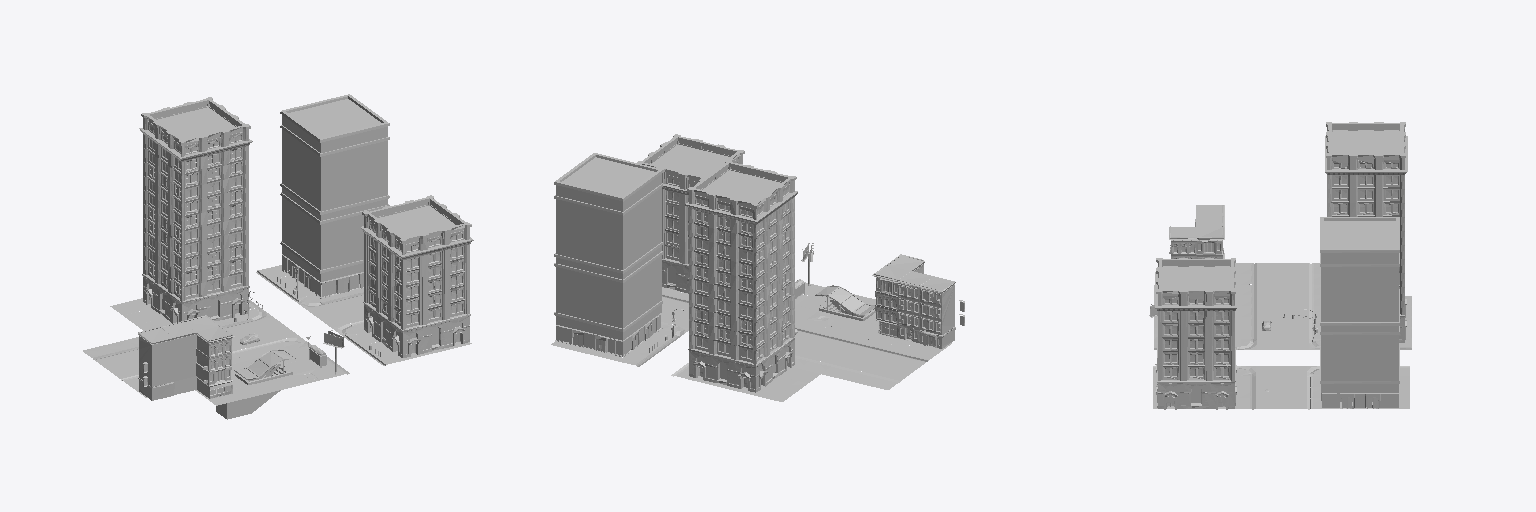
File: city_1_LOD_2.obj
The picture shows the model from 3 angles: view 1: azimuth 30°, elevation 25°; view 2: azimuth 150°, elevation 25°; view 3: azimuth 270°, elevation 25°; orthographic projection.
Parts seen in each view (by area): view 1: SM_Bld_OfficeOld_Large_Floor_02_Scene.214; view 2: SM_Bld_OfficeOld_Large_Floor_02_Scene.214; view 3: SM_Bld_OfficeOld_Large_Floor_02_Scene.214.
Boxes of the visible parts, x1,y1,x2,y2 form: SM_Bld_OfficeOld_Large_Floor_02_Scene.214: [83, 94, 473, 419]; SM_Bld_OfficeOld_Large_Floor_02_Scene.214: [551, 134, 964, 401]; SM_Bld_OfficeOld_Large_Floor_02_Scene.214: [1149, 122, 1411, 409].
Size of the model in its own units: 69.56 by 46.58 by 51.09.